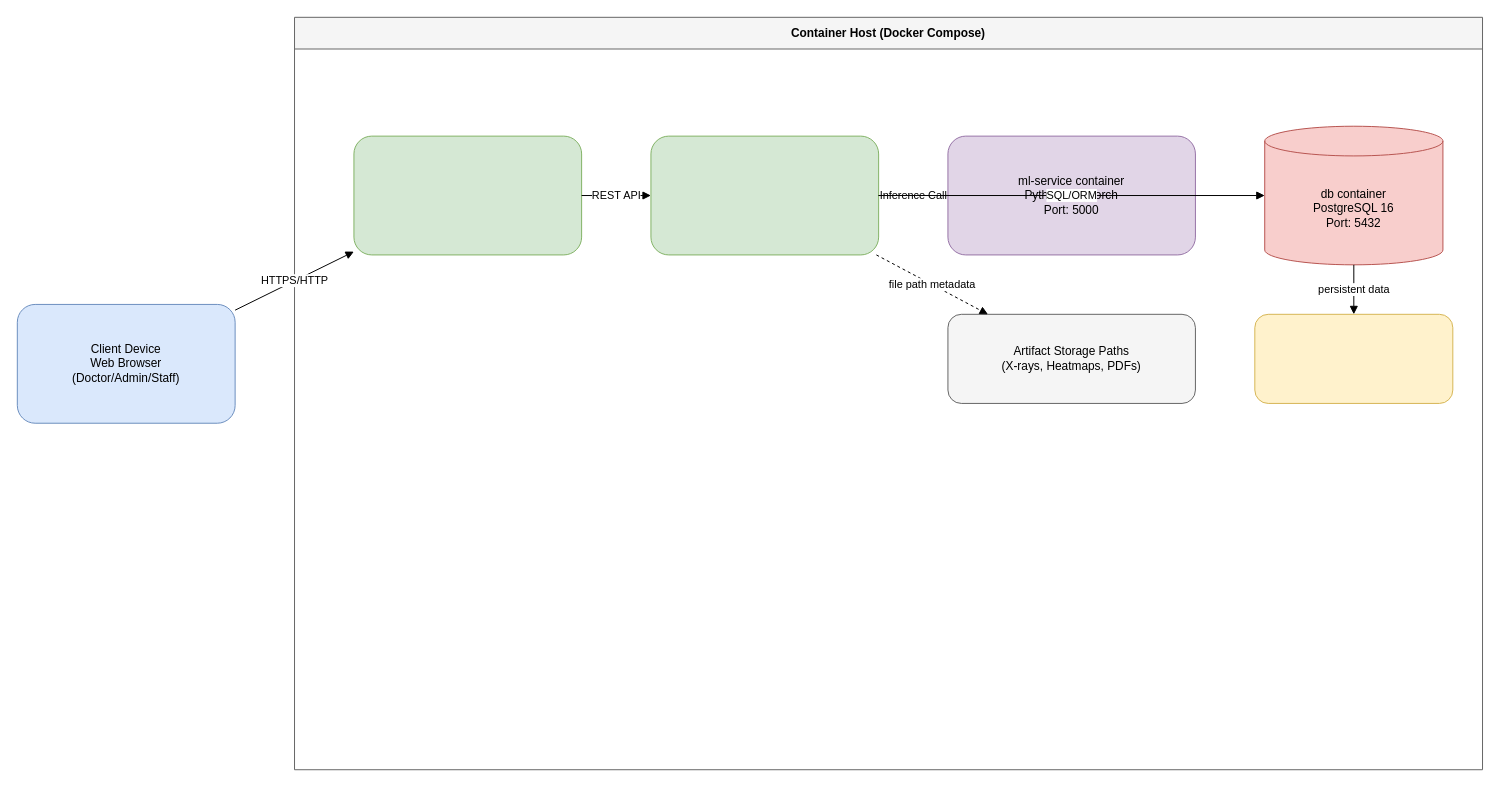
Image size: 1500x787. Some labels were removed from this diagram. Each missing label, with the centre of its shape:
"backend container FastAPI Port: 8000" belongs at point 764,195.
"Docker Volume postgres_data" belongs at point 1353,358.
"frontend container Next.js Port: 3000" belongs at point 467,195.
